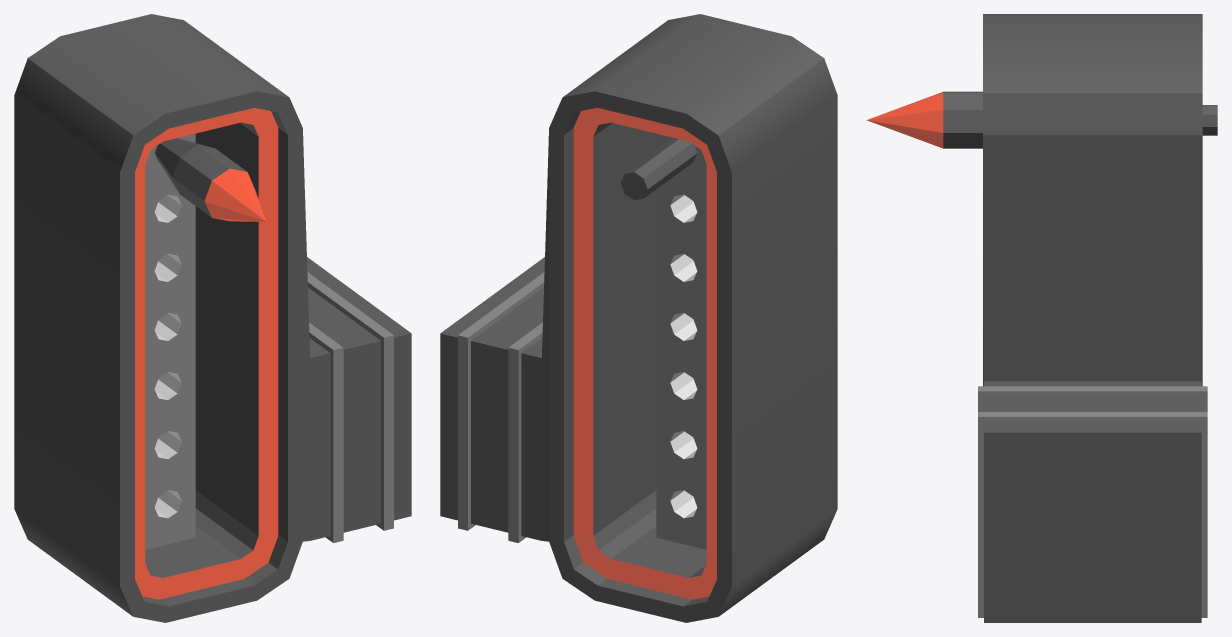
The model's file is RocketLauncher.fbx.
The picture shows the model from 3 angles, left to right: view 1: azimuth 30°, elevation 25°; view 2: azimuth 150°, elevation 25°; view 3: azimuth 270°, elevation 25°; orthographic projection. The views are drawn at different scales.
Parts seen in each view (by area): view 1: RocketLauncher, Rocket; view 2: RocketLauncher, Rocket; view 3: RocketLauncher, Rocket.
Boxes of the visible parts, x1,y1,x2,y2 form: RocketLauncher: (14, 14, 411, 622); Rocket: (154, 138, 266, 221); RocketLauncher: (440, 14, 837, 622); Rocket: (620, 138, 697, 200); RocketLauncher: (978, 14, 1207, 622); Rocket: (866, 91, 1217, 148).
Bounding box in the file's own units: 32.54 × 54.18 × 32.56.
